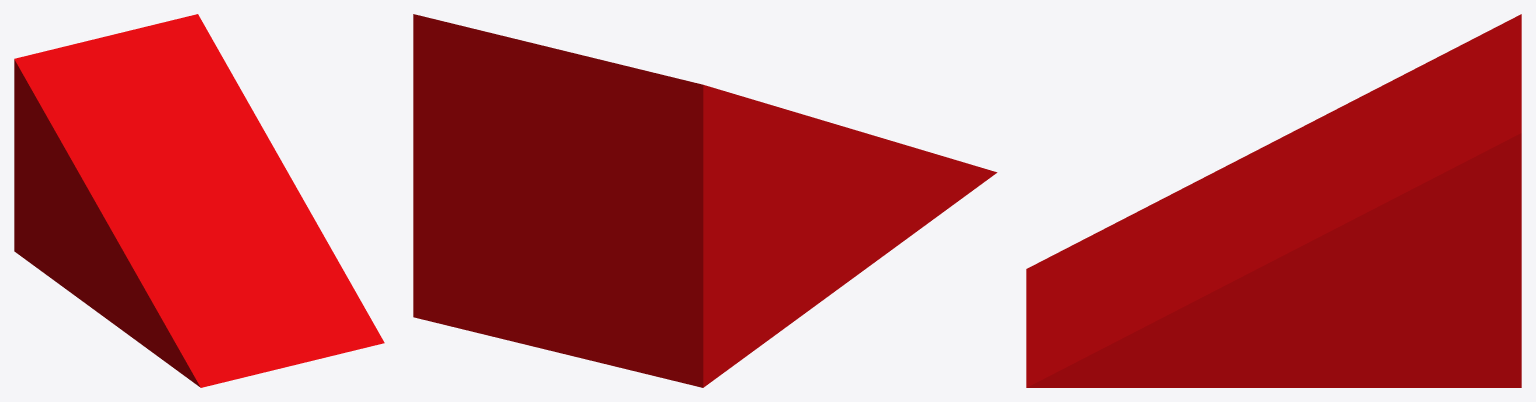
The model's file is Simple Ramp.fbx.
3 renders of one model, left to right at view 1: azimuth 30°, elevation 25°; view 2: azimuth 150°, elevation 25°; view 3: azimuth 270°, elevation 25°, orthographic. The views are drawn at different scales.
Parts seen in each view (by area): view 1: Cube -col; view 2: Cube -col; view 3: Cube -col.
Part boxes in pixels (<box>): Cube -col: <box>14,14,384,387</box>; Cube -col: <box>413,14,997,387</box>; Cube -col: <box>1026,14,1521,387</box>.
Size of the model in its own units: 200 by 200 by 352.
